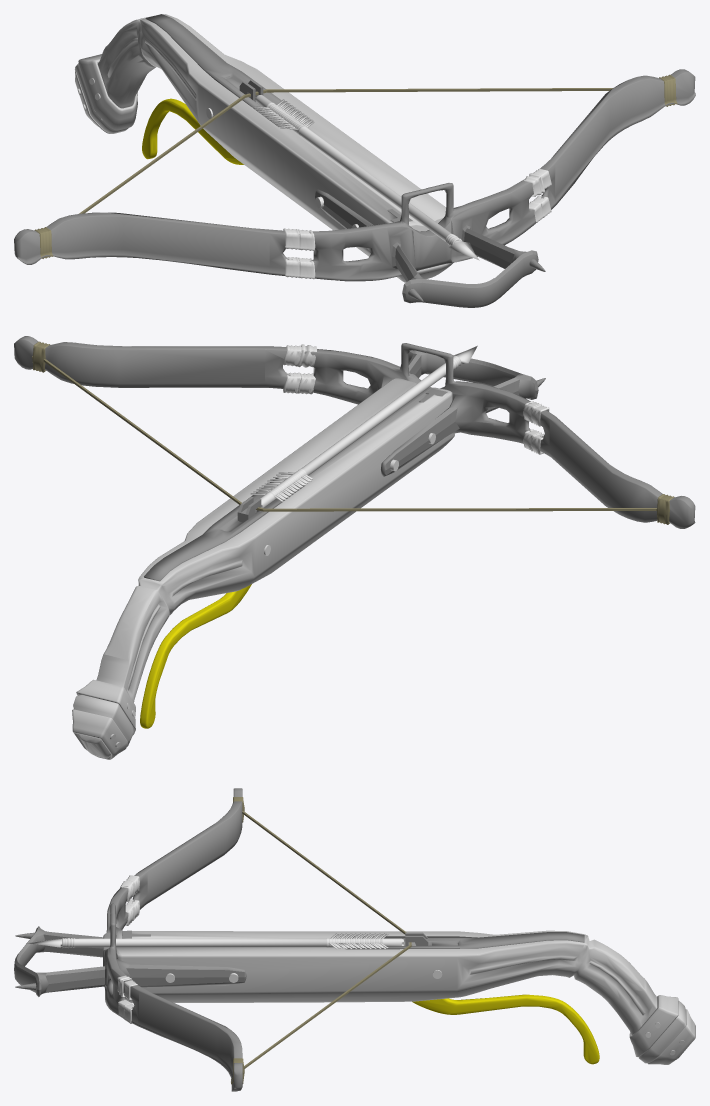
Rendered from mesh_crossbow.fbx.
The picture shows the model from 3 angles, top to bottom: view 1: azimuth 30°, elevation 25°; view 2: azimuth 150°, elevation 25°; view 3: azimuth 270°, elevation 25°; orthographic projection. The views are drawn at different scales.
Visible parts, largest first — view 1: Bow, Arrow, Trigger; view 2: Bow, Arrow, Trigger; view 3: Bow, Arrow, Trigger.
Boxes of the visible parts, x1,y1,x2,y2 form: Bow: (14,14,695,307); Arrow: (252,95,479,260); Trigger: (142,98,243,164); Bow: (14,336,695,759); Arrow: (250,345,477,507); Trigger: (140,584,251,728); Bow: (14,788,695,1091); Arrow: (26,933,403,949); Trigger: (412,994,599,1064).
Bounding box in the file's own units: 6926 × 1701 × 7016.
